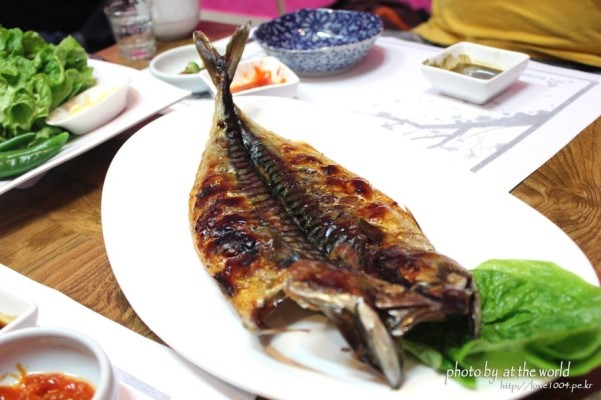godeung-eogu-i: (186, 29, 484, 388)
